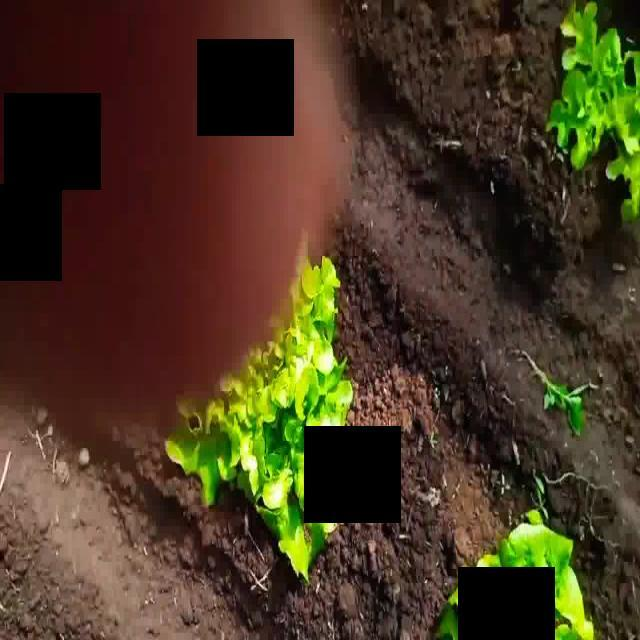Lettuce: (160, 253, 360, 570), (434, 503, 600, 640), (547, 0, 640, 228)
